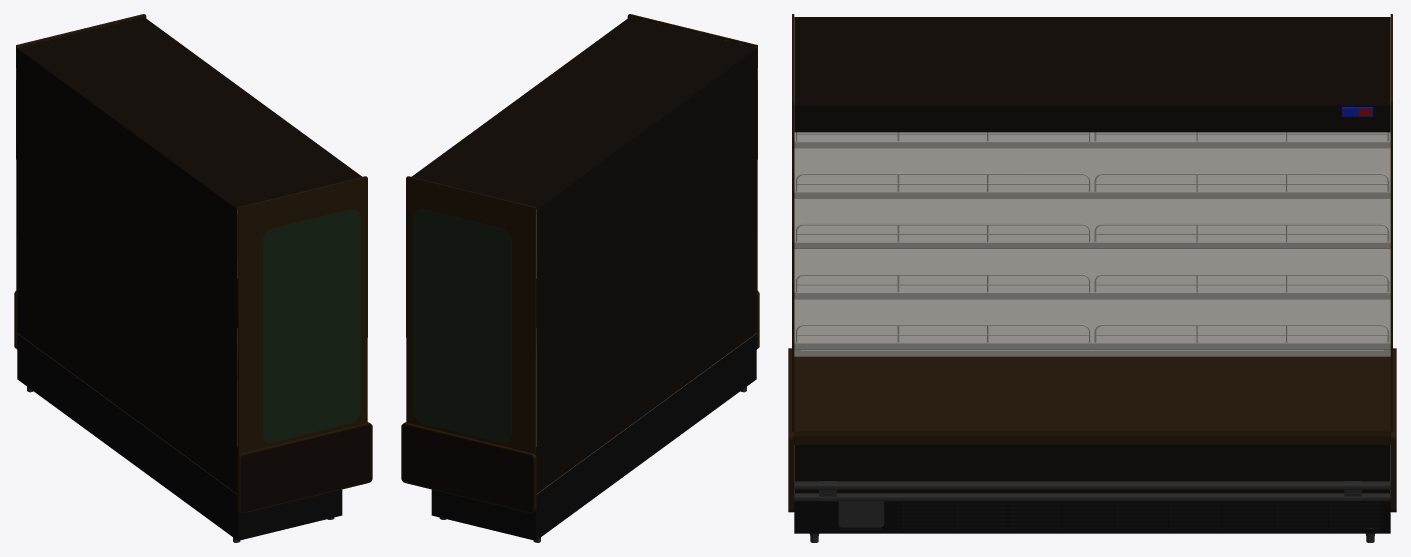
3 renders of one model, left to right at view 1: azimuth 30°, elevation 25°; view 2: azimuth 150°, elevation 25°; view 3: azimuth 270°, elevation 25°, orthographic. The views are drawn at different scales.
Parts seen in each view (by area): view 1: Shape1, Shape043, Shape042, Rectangle002; view 2: Shape1, Shape043, Shape042, Rectangle002; view 3: Shape1, Shape10, Shape8, Shape9, Shape6, Rectangle008, 3D Models at 3dxy, Shape11, Shape4, Rectangle006, Rectangle005, Rectangle007 (+4 smaller).
Part boxes in pixels (x1,y1,x2,y2): Shape1: (16, 17, 362, 540); Shape043: (262, 209, 360, 442); Shape042: (16, 14, 367, 453); Rectangle002: (14, 291, 372, 513); Shape1: (411, 17, 757, 540); Shape043: (413, 209, 511, 442); Shape042: (406, 14, 757, 453); Rectangle002: (401, 291, 759, 513); Shape1: (794, 17, 1390, 533); Shape10: (794, 148, 1390, 198); Shape8: (794, 249, 1390, 299); Shape9: (794, 198, 1390, 248); Shape6: (794, 299, 1390, 349); Rectangle008: (794, 501, 1390, 533); 3D Models at 3dxy: (794, 106, 1390, 501); Shape11: (794, 132, 1390, 148); Shape4: (794, 436, 1390, 445); Rectangle006: (795, 274, 1389, 292); Rectangle005: (795, 223, 1389, 242); Rectangle007: (795, 324, 1389, 342).
Bounding box in the file's own units: 885 × 2164 × 2589.
